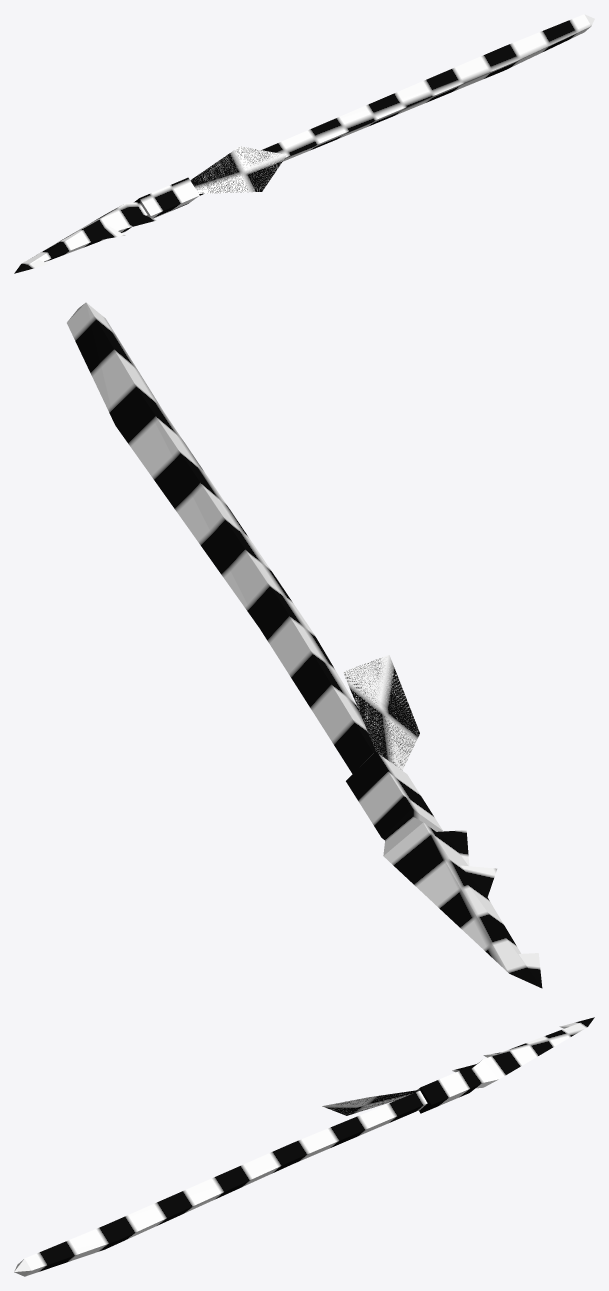
File: initwesp2.dae
3 views of the same model, one above another, from view 1: azimuth 90°, elevation 25°; view 2: azimuth 150°, elevation 25°; view 3: azimuth 270°, elevation 25° (orthographic). The views are drawn at different scales.
Parts seen in each view (by area): view 1: weapon; view 2: weapon; view 3: weapon.
Boxes of the visible parts, bbox=[...] form: weapon: bbox=[14, 14, 594, 273]; weapon: bbox=[67, 302, 542, 988]; weapon: bbox=[14, 1017, 594, 1276].
Bounding box in the file's own units: 2.13 × 2.05 × 0.15.
Materials: 1 (1 with a texture image).
